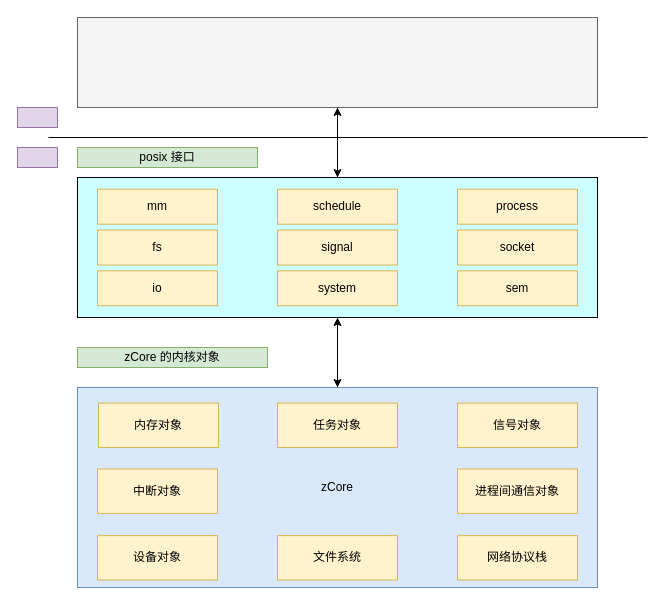
This 666x605 diagram has some shape labels left out. Each missing label, with the centre of its shape:
"内核态" goes at (37,157).
"无人软件..." goes at (337,62).
"用户态" goes at (37,117).
